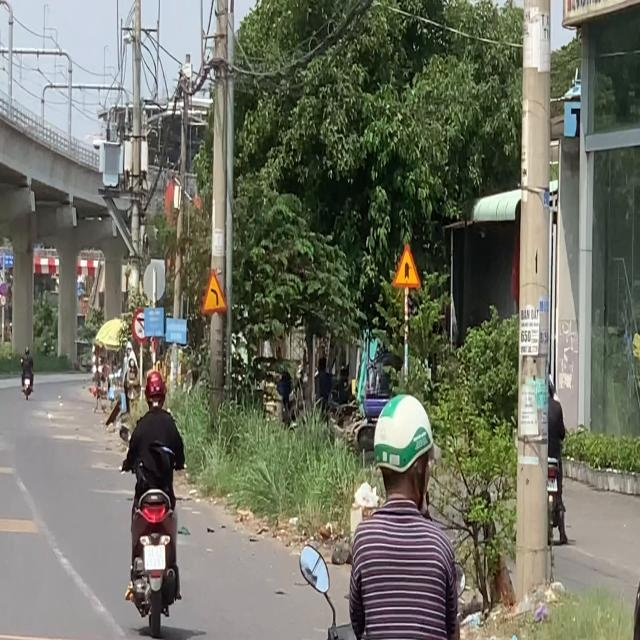bien_nguy_hiem: (200, 267, 229, 317), (392, 241, 422, 289)
